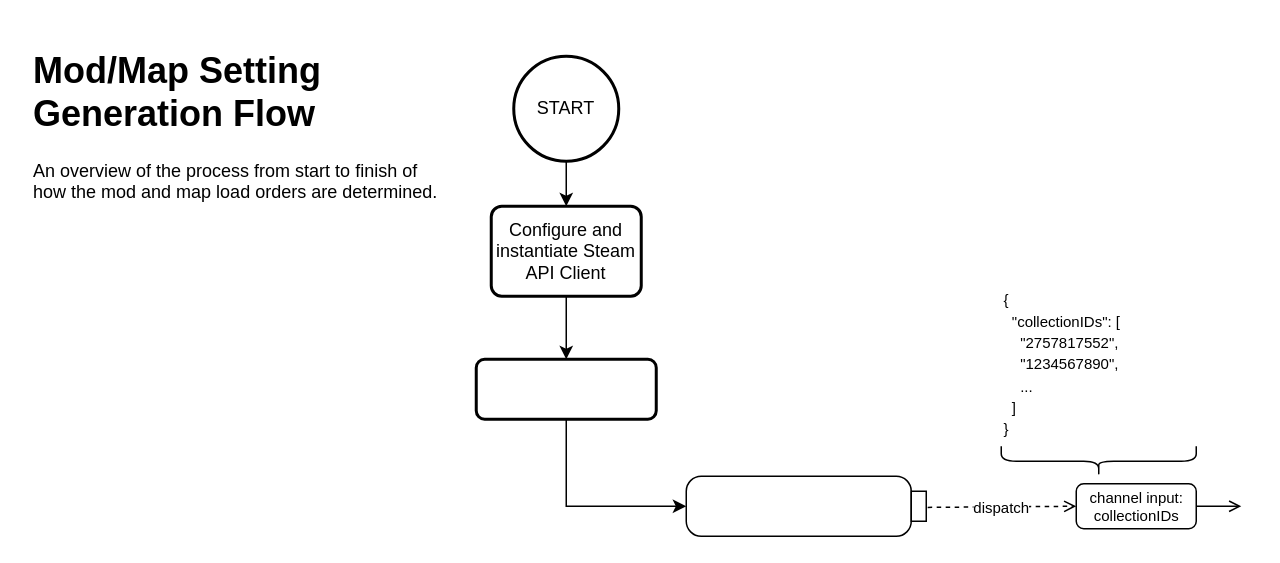
Some shapes in this 1280 by 563 pixel diagram are drawn without their labels. Each missing label, with the box of its shape:
Listen POST /generate-ini: (685, 475, 926, 536)
Start HTTP server: (474, 357, 657, 420)
